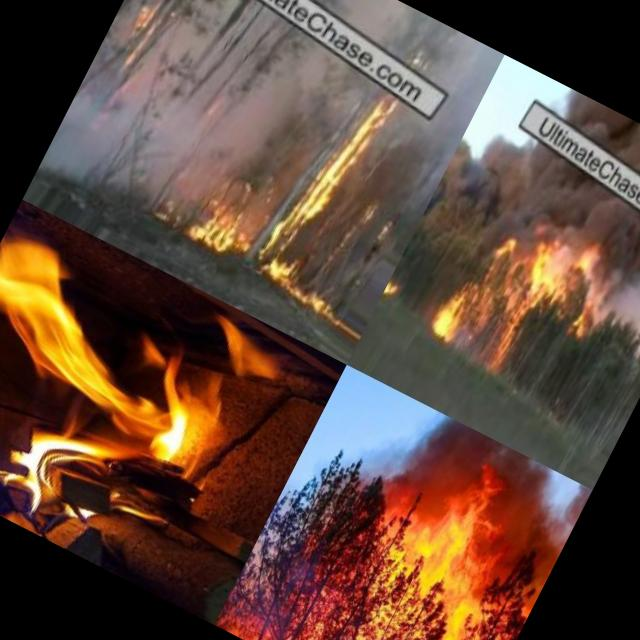fire: (0, 209, 253, 485), (371, 461, 543, 636), (271, 93, 381, 279), (284, 559, 511, 640), (176, 186, 252, 258), (485, 558, 551, 640), (556, 258, 618, 339), (514, 232, 574, 302), (425, 282, 476, 346), (285, 273, 348, 322), (149, 190, 190, 237), (485, 227, 523, 270)
smoke: (132, 0, 367, 155), (39, 40, 212, 221), (463, 137, 640, 271), (398, 408, 564, 541), (174, 97, 322, 229), (334, 101, 461, 237), (598, 227, 640, 345)
